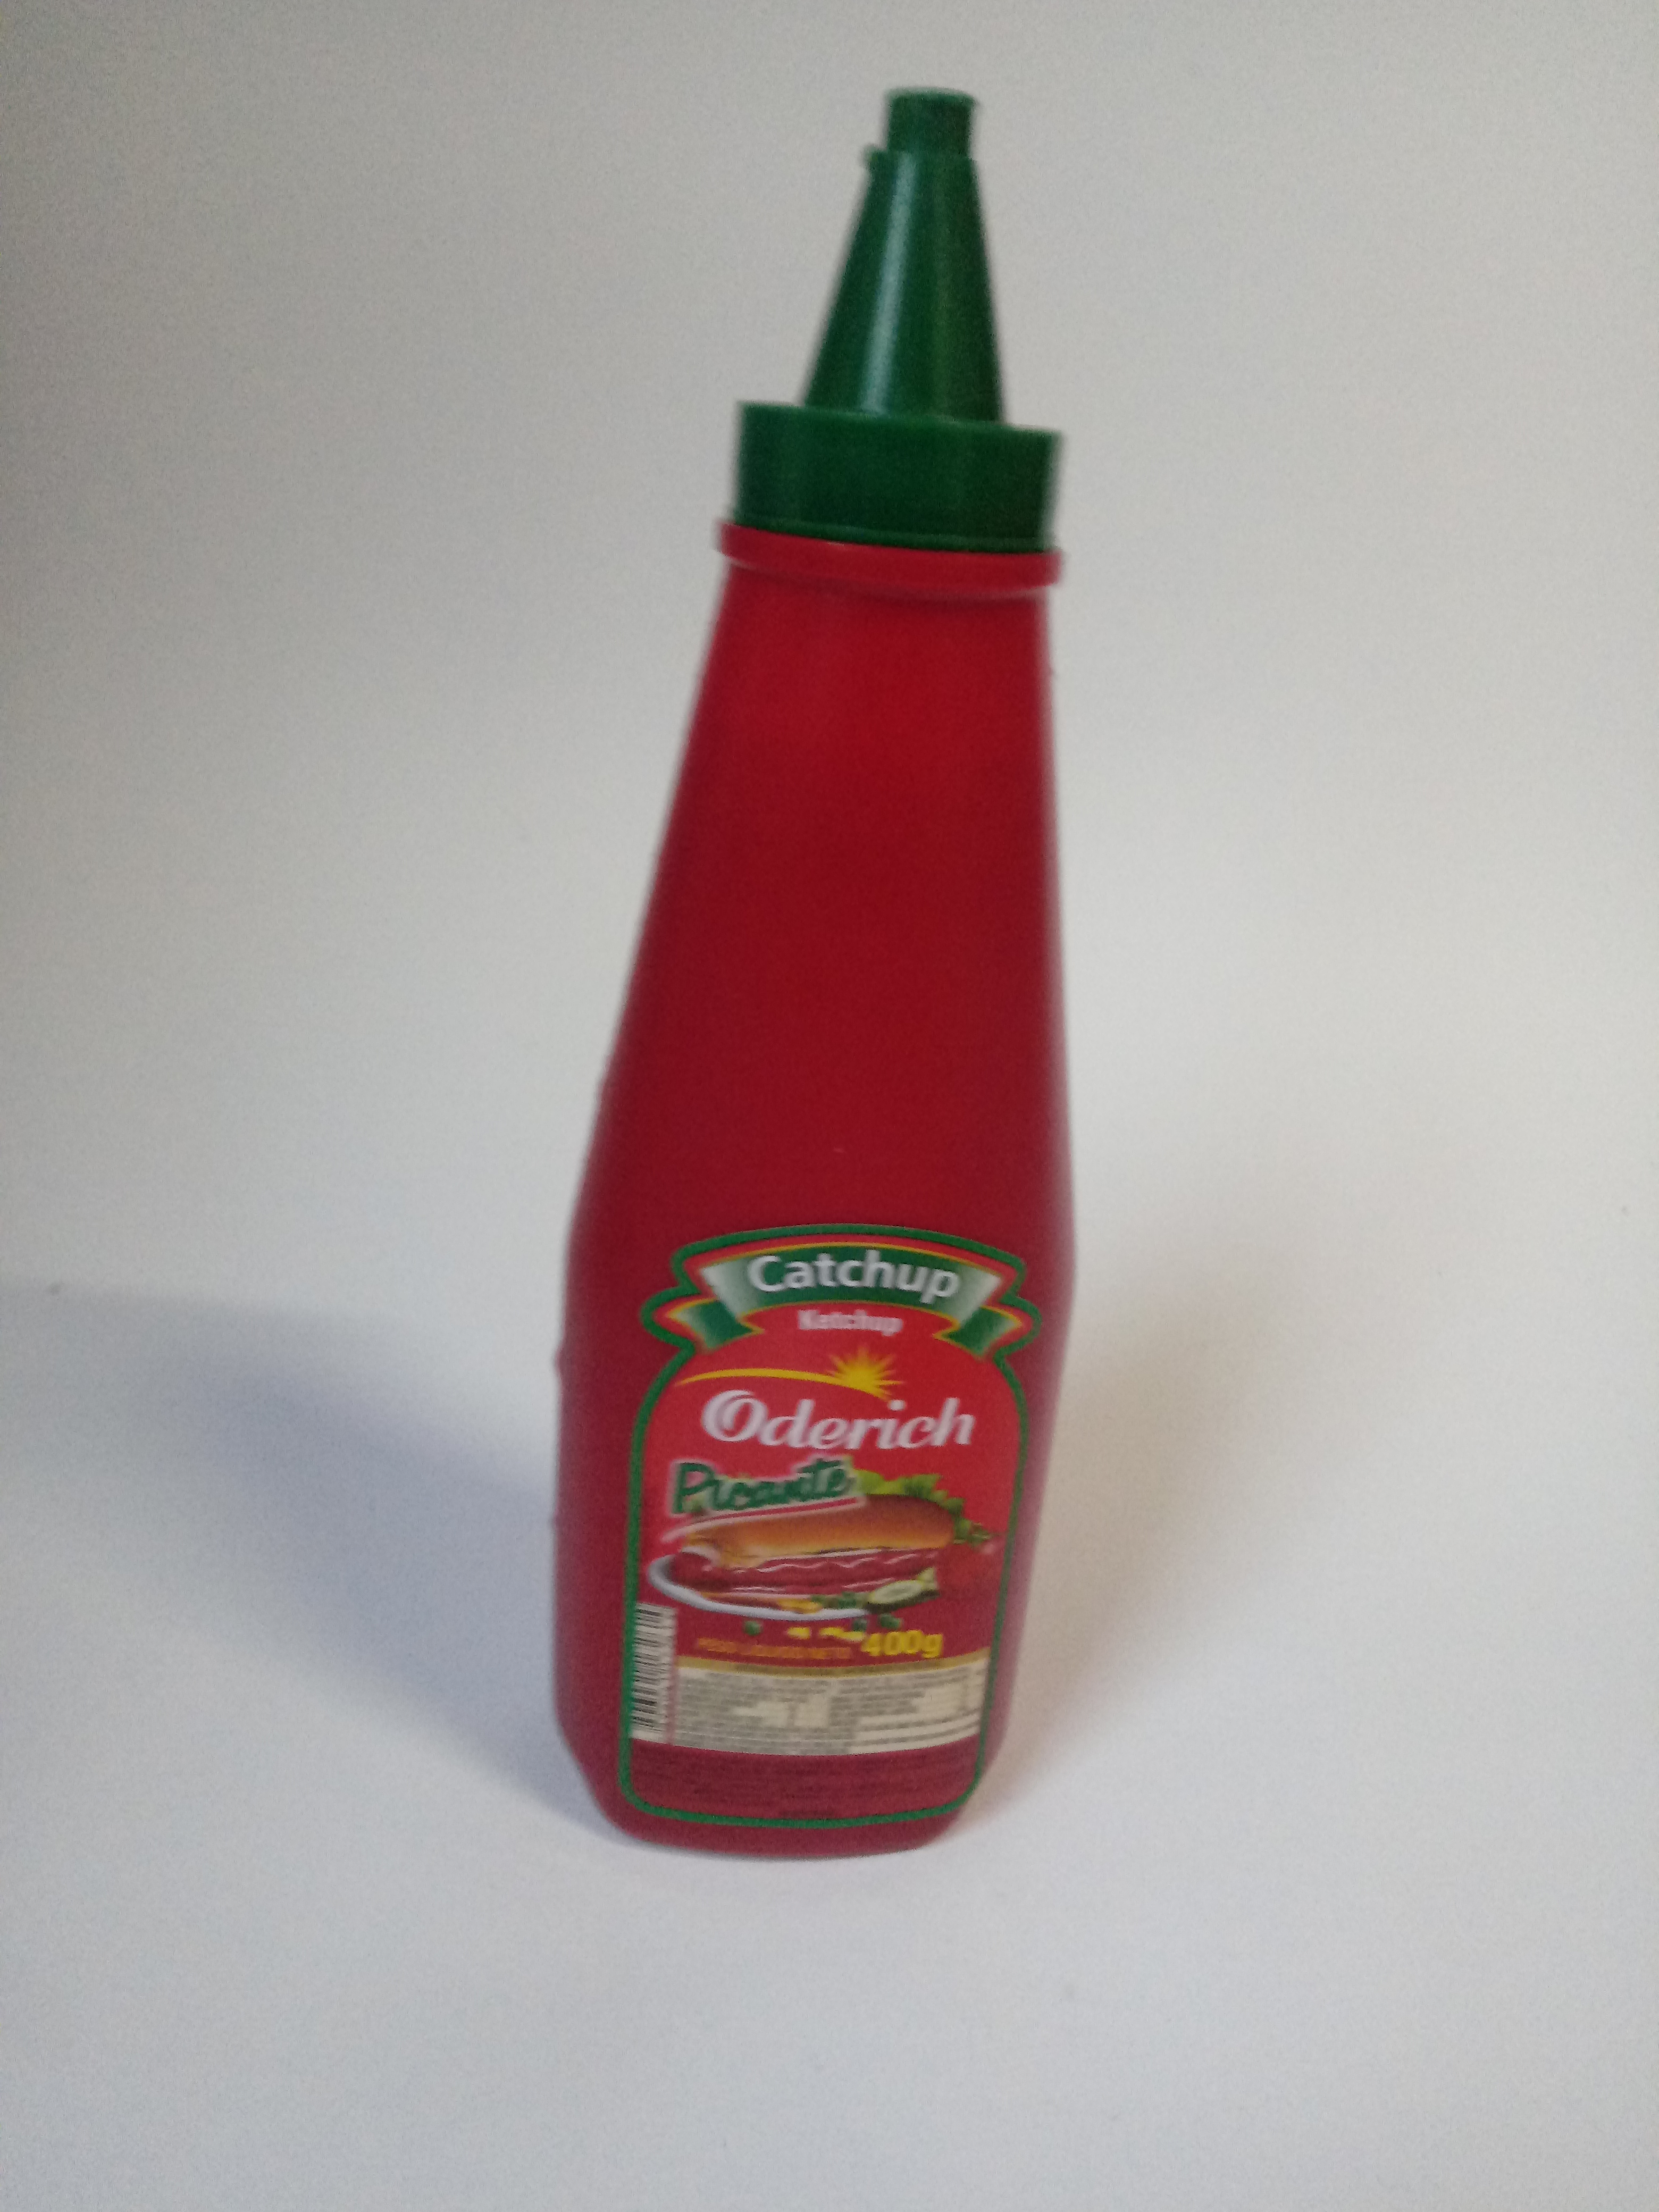catchup-oderich: (519, 73, 1093, 1892)
